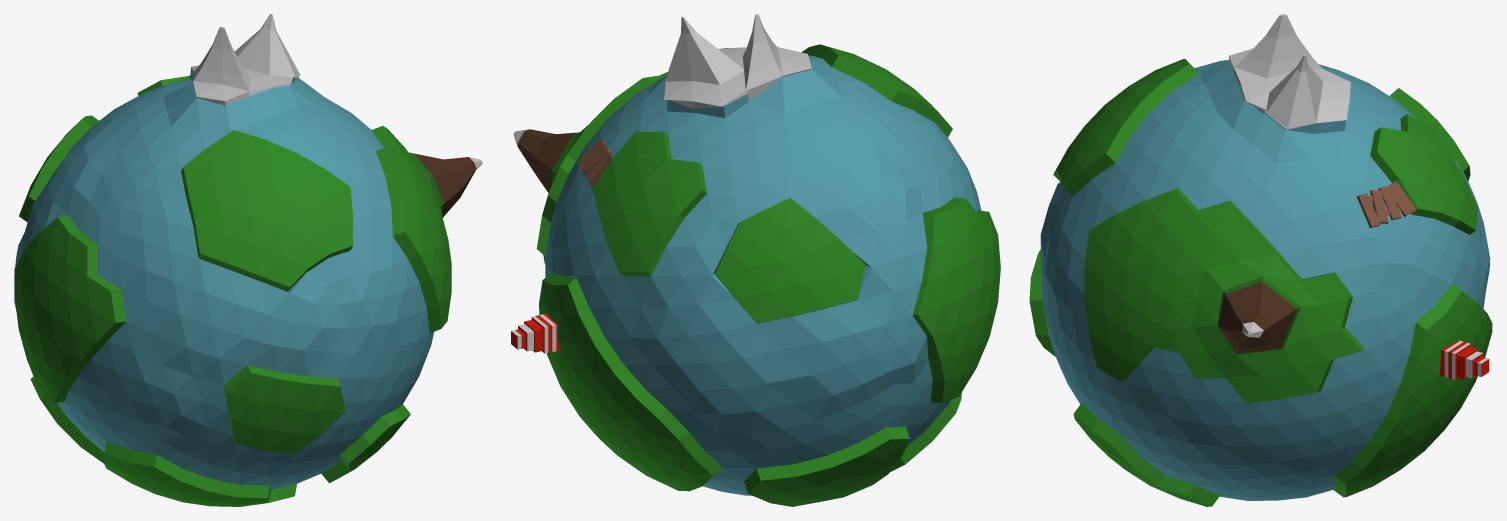
Rendered from world.glb.
The picture shows the model from 3 angles, left to right: view 1: azimuth 30°, elevation 25°; view 2: azimuth 150°, elevation 25°; view 3: azimuth 270°, elevation 25°; orthographic projection. The views are drawn at different scales.
Visible parts, largest first — view 1: Icosphere; view 2: Icosphere, Cube.001_Cube.004, Cube_Cube.003; view 3: Icosphere, Cube_Cube.003, Cube.001_Cube.004.
Part boxes in pixels (x1=…): Icosphere: x1=14, y1=14, x2=482, y2=506; Icosphere: x1=513, y1=14, x2=1000, y2=506; Cube.001_Cube.004: x1=511, y1=313, x2=559, y2=353; Cube_Cube.003: x1=577, y1=138, x2=613, y2=187; Icosphere: x1=1029, y1=14, x2=1492, y2=506; Cube_Cube.003: x1=1356, y1=181, x2=1416, y2=227; Cube.001_Cube.004: x1=1439, y1=340, x2=1489, y2=379.
Size of the model in its own units: 2.41 by 2.36 by 2.08.
